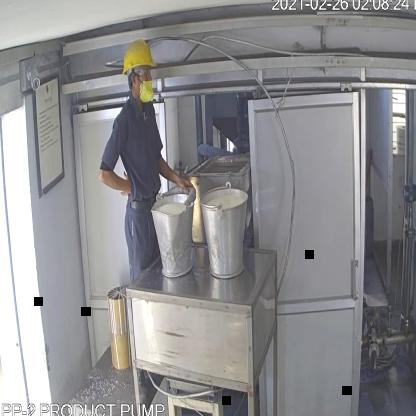helmet: (117, 38, 158, 78)
